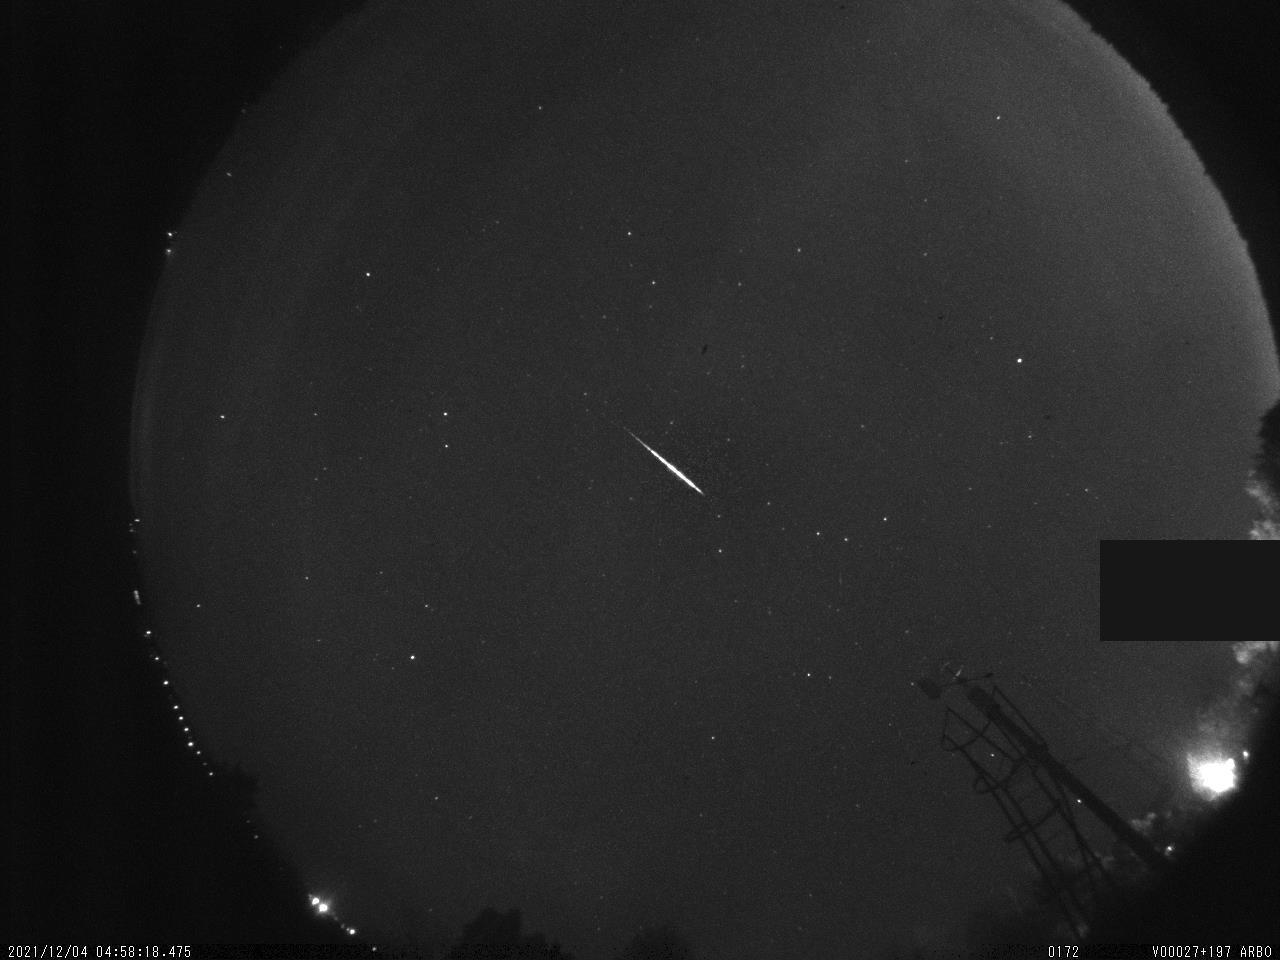Meteor: (622, 423, 705, 496)
